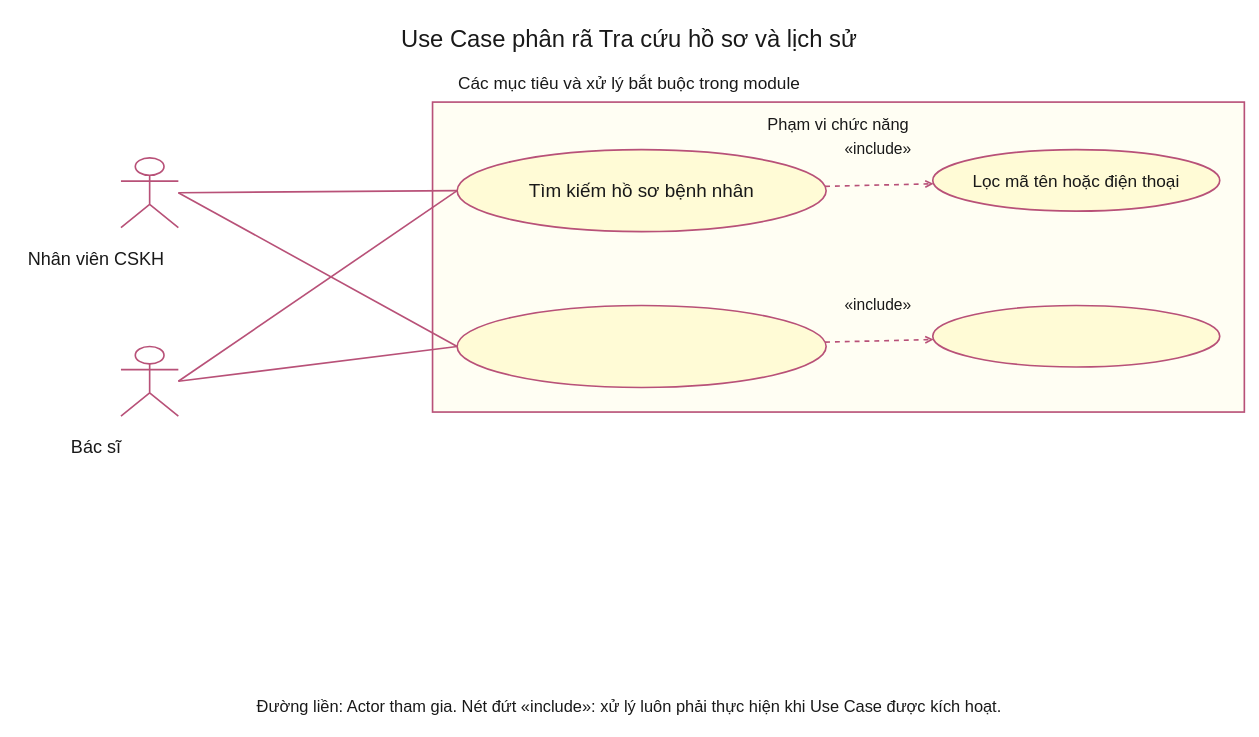
This 1259x737 diagram has some shape labels left out. Each missing label, with the centre of its shape:
"Xem lịch sử khám và khoa điều trị" belongs at point 641,346.
"Đọc bác sĩ và khoa đã lưu" belongs at point 1076,335.
